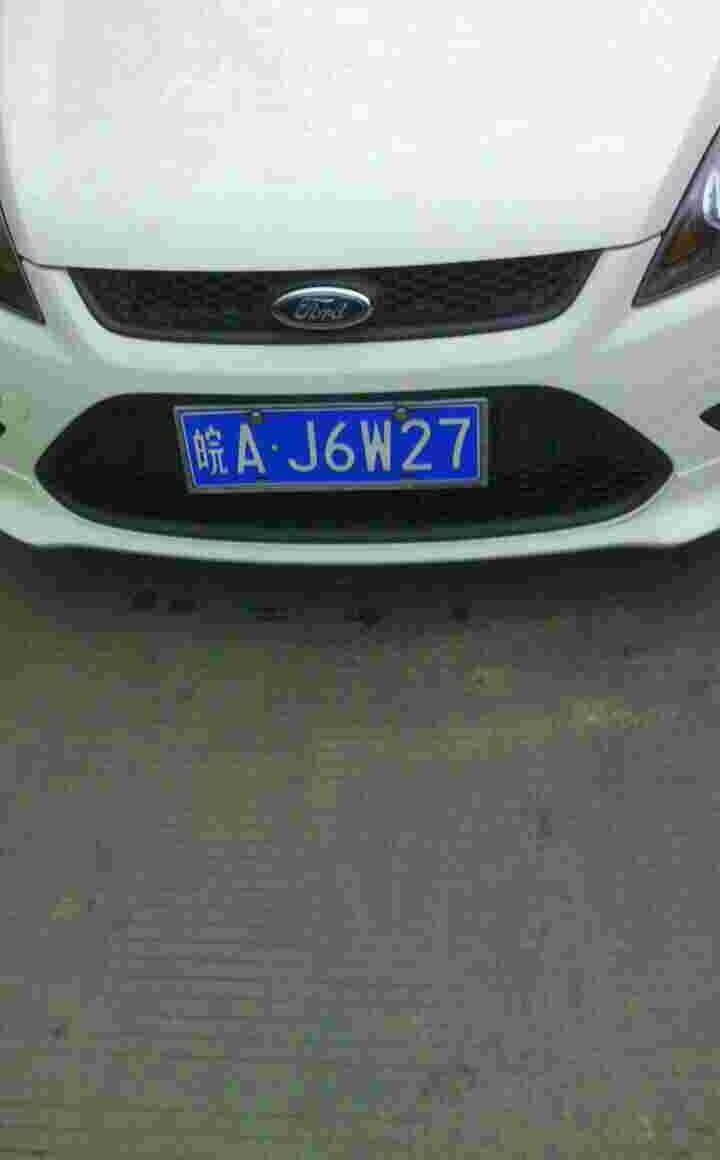license_plate: (176, 403, 489, 495)
